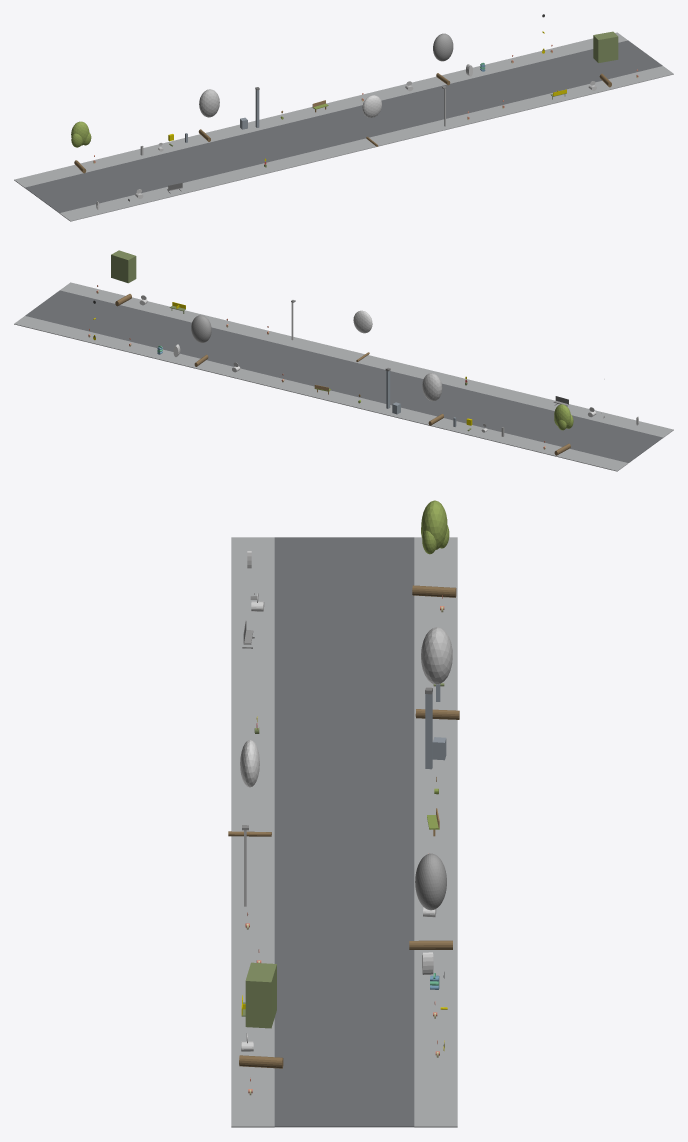
The picture shows the model from 3 angles, top to bottom: view 1: azimuth 30°, elevation 25°; view 2: azimuth 150°, elevation 25°; view 3: azimuth 270°, elevation 25°; orthographic projection. The views are drawn at different scales.
Visible parts, largest first — view 1: road_slab, sidewalk_left, sidewalk_right, inst_0016, inst_0013, inst_0015, inst_0012, inst_0014; view 2: road_slab, sidewalk_right, sidewalk_left, inst_0016, inst_0015, inst_0013, inst_0012, inst_0014; view 3: road_slab, sidewalk_left, sidewalk_right, inst_0016, inst_0015, inst_0013, inst_0012, inst_0014.
Boxes of the visible parts, <box> form: road_slab: <box>25,40,662,213</box>; sidewalk_left: <box>59,66,673,221</box>; sidewalk_right: <box>14,32,627,187</box>; inst_0016: <box>593,31,618,87</box>; inst_0013: <box>198,89,219,141</box>; inst_0015: <box>433,33,453,85</box>; inst_0012: <box>71,121,91,173</box>; inst_0014: <box>362,95,381,146</box>; road_slab: <box>25,290,662,462</box>; sidewalk_right: <box>14,316,628,471</box>; sidewalk_left: <box>60,282,673,437</box>; inst_0016: <box>111,250,136,306</box>; inst_0015: <box>191,315,211,366</box>; inst_0013: <box>422,373,443,425</box>; inst_0012: <box>554,404,573,455</box>; inst_0014: <box>353,310,372,361</box>; road_slab: <box>274,537,414,1127</box>; sidewalk_left: <box>231,537,274,1127</box>; sidewalk_right: <box>414,537,457,1127</box>; inst_0016: <box>239,962,283,1068</box>; inst_0015: <box>409,853,452,949</box>; inst_0013: <box>415,627,459,719</box>; inst_0012: <box>412,500,456,597</box>; inst_0014: <box>228,740,271,836</box>.
Size of the model in its own units: 80 by 6.08 by 13.3.
